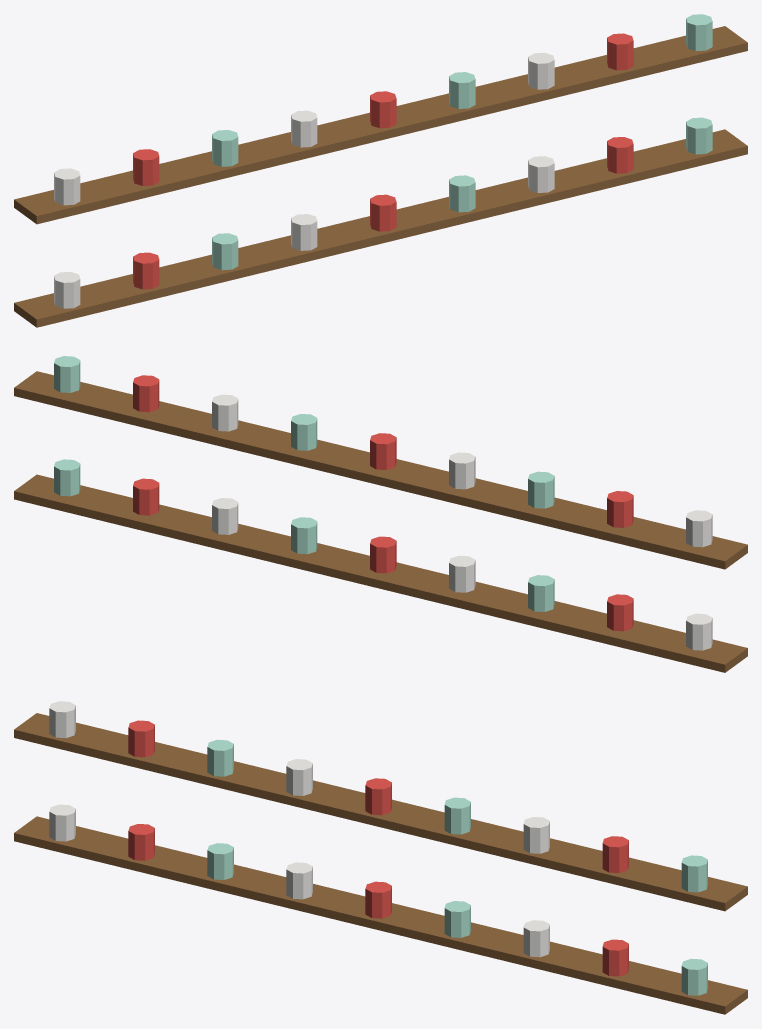
Rendered from diner_cupshelf.glb.
3 renders of one model, top to bottom at view 1: azimuth 30°, elevation 25°; view 2: azimuth 150°, elevation 25°; view 3: azimuth 330°, elevation 25°, orthographic.
Parts seen in each view (by area): view 1: diner_cupshelf; view 2: diner_cupshelf; view 3: diner_cupshelf.
Boxes of the visible parts, x1,y1,x2,y2 form: diner_cupshelf: [14, 14, 747, 327]; diner_cupshelf: [14, 356, 747, 672]; diner_cupshelf: [14, 701, 747, 1014].
Size of the model in its own units: 3.6 by 0.665 by 0.2.
